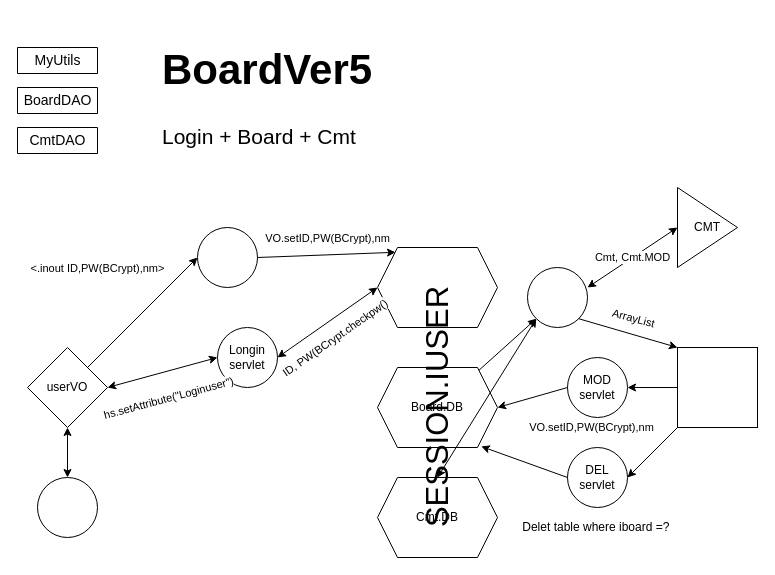
This 775x575 diagram has some shape labels left out. The centre of each missing label's shape, as x and y in pixels:
"board" belongs at point 717,387.
"Board servlet" belongs at point 557,297.
"Join servlet" belongs at point 227,257.
"Logout servlet" belongs at point 67,507.
"User.DB" belongs at point 437,287.
